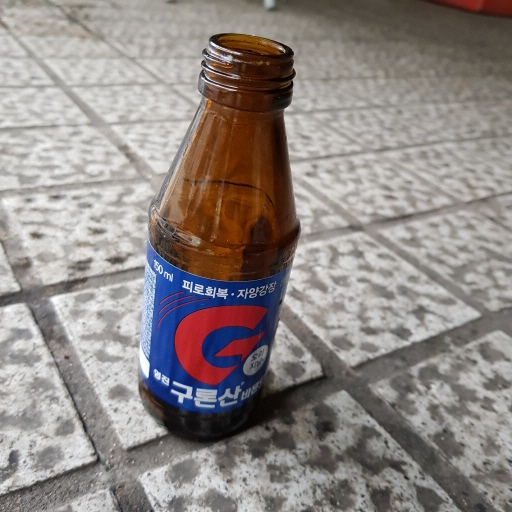Glass_3: (131, 34, 303, 440)
